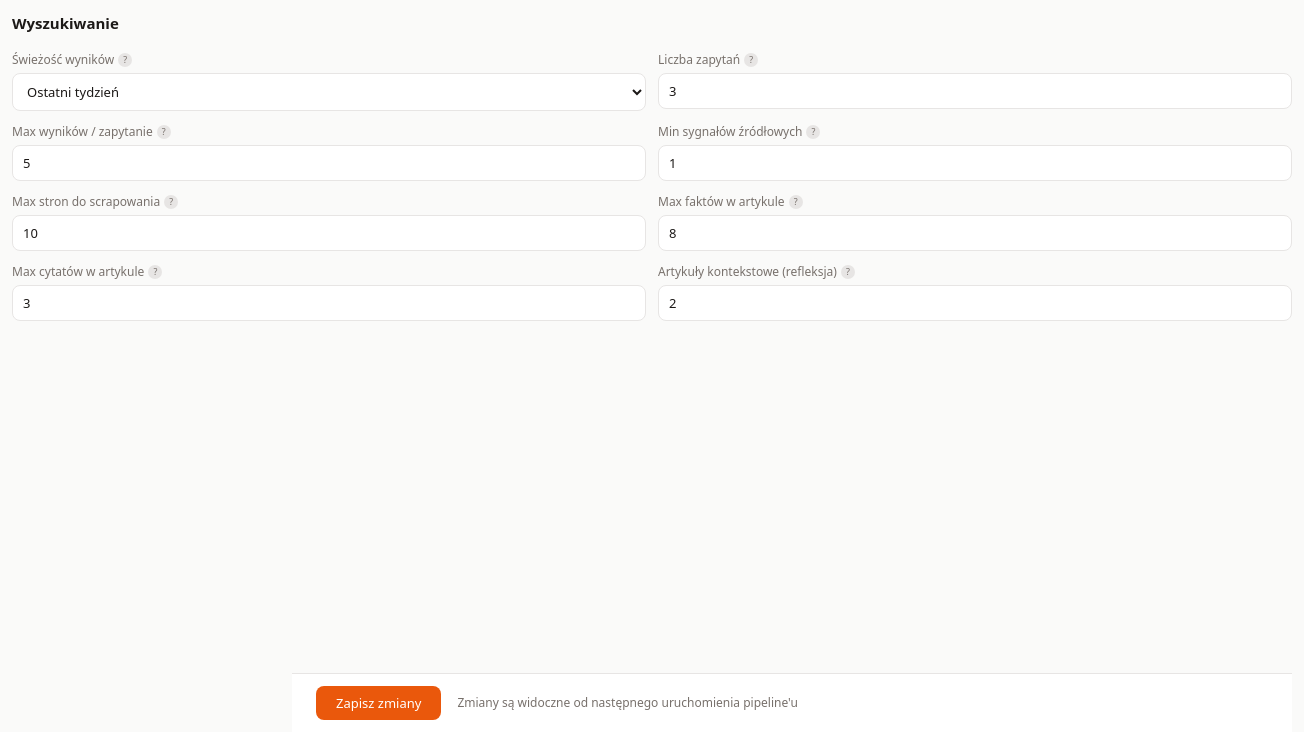
Test: Świeżość wyników — custom days input › selecting 'Własna' reveals a number input
Select "Własna (wpisz dni)" in the dropdown at (329, 92), box [12,72,646,110]
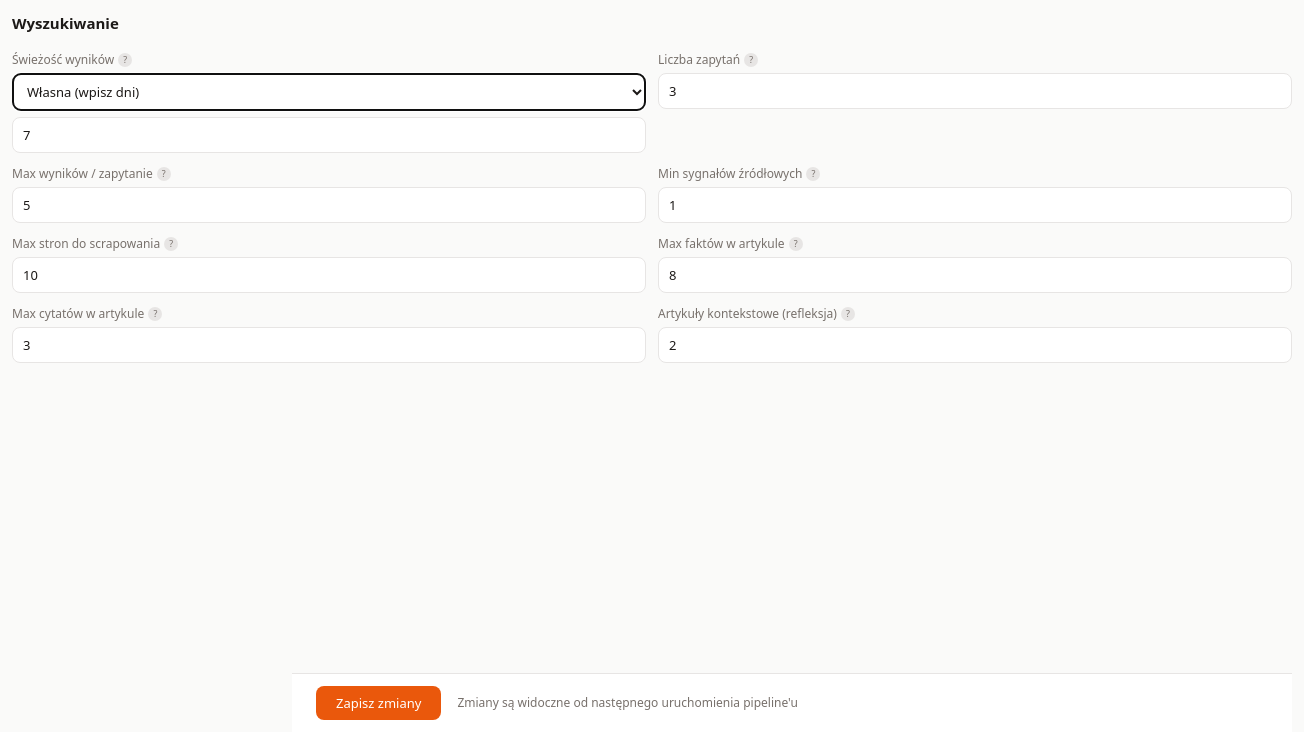
Result: the number field with placeholder "Liczba dni" below "Świeżość wyników" is shown at [12,116,646,152]
